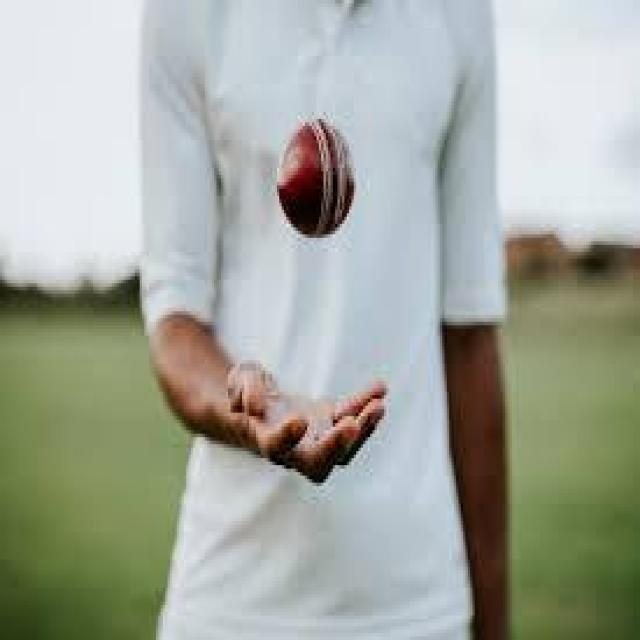ball: (277, 119, 356, 238)
